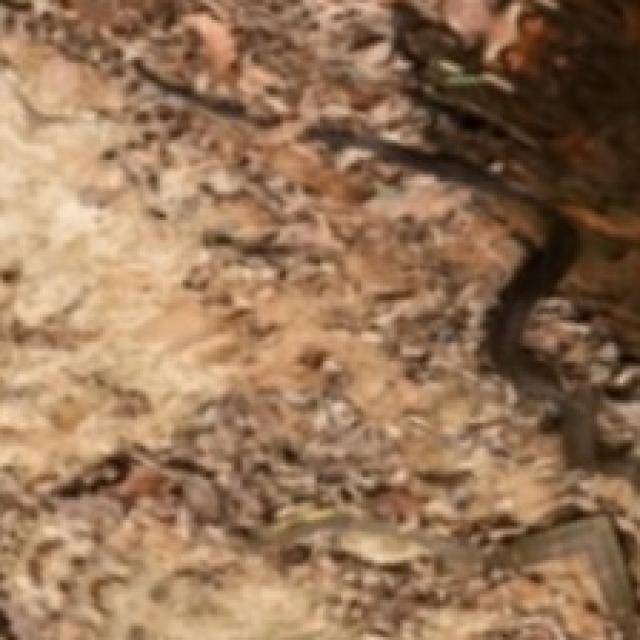king cobra: (309, 117, 577, 403)
